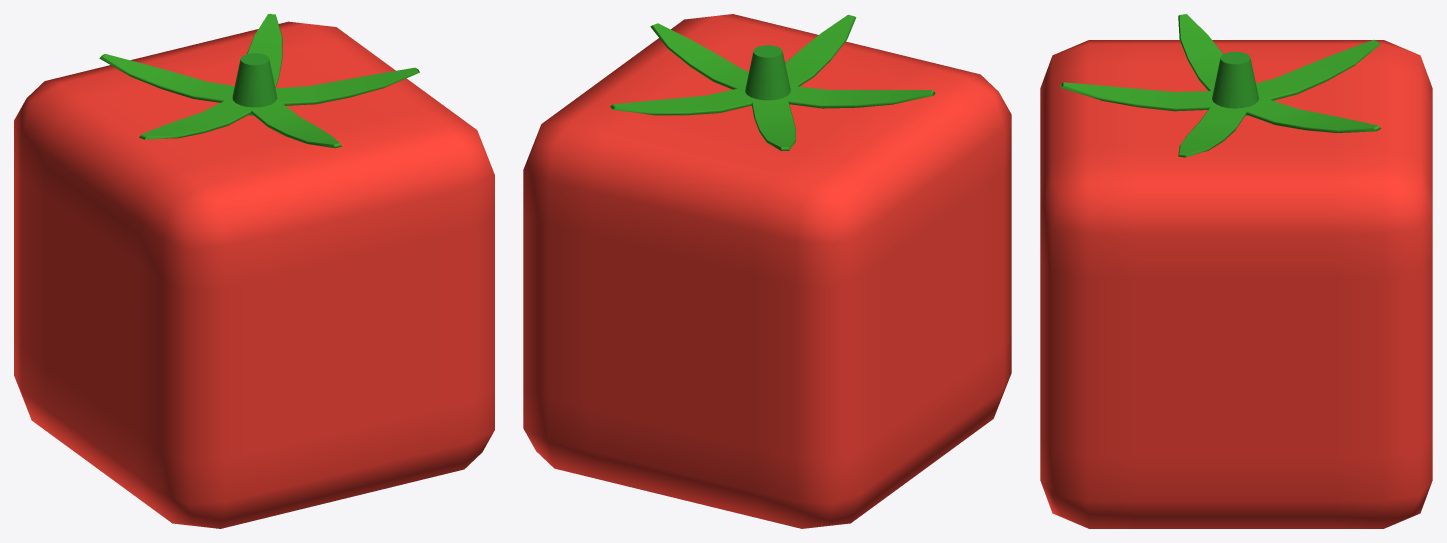
File: Tomato.fbx
3 renders of one model, left to right at view 1: azimuth 30°, elevation 25°; view 2: azimuth 150°, elevation 25°; view 3: azimuth 270°, elevation 25°, orthographic. The views are drawn at different scales.
Visible parts, largest first — view 1: Tomato; view 2: Tomato; view 3: Tomato.
Part boxes in pixels (<box>): Tomato: <box>14,14,494,528</box>; Tomato: <box>523,14,1011,528</box>; Tomato: <box>1040,14,1432,528</box>.
Bounding box in the file's own units: 128 × 146 × 128.
Materials: 1 (1 with a texture image).
